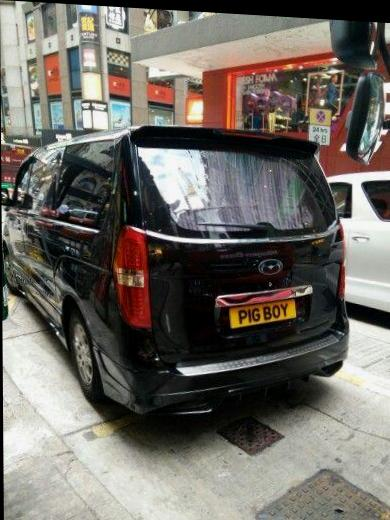License_Plate: (227, 291, 301, 336)
